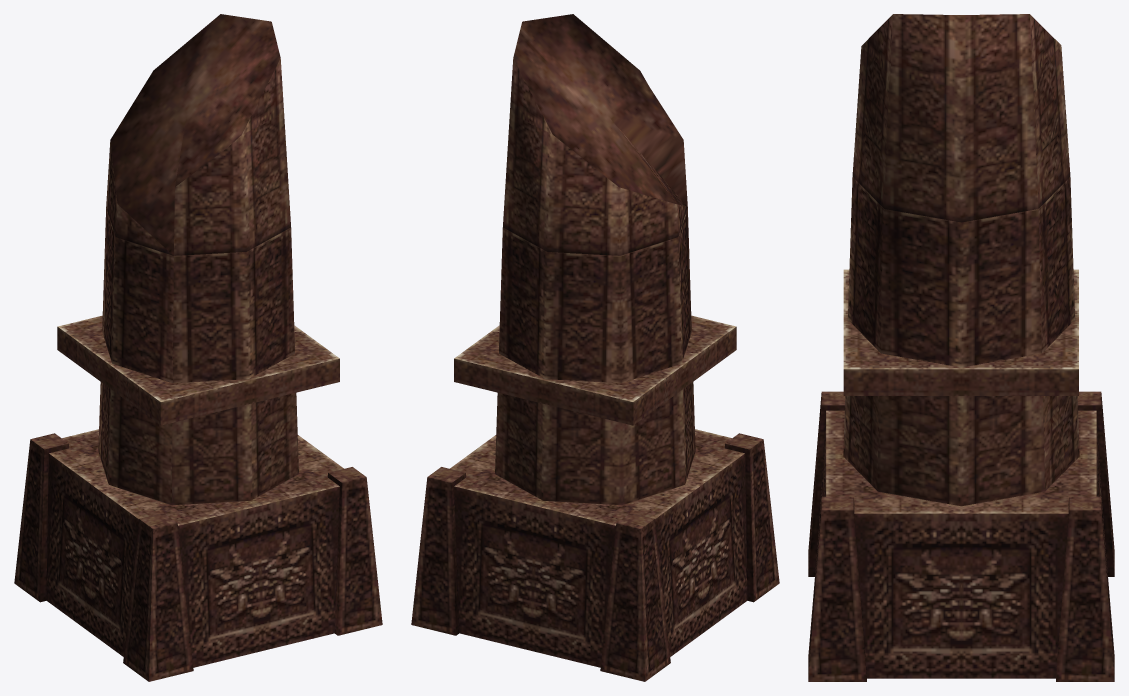
File: general_obj_bigtoewr01.glb
The picture shows the model from 3 angles, left to right: view 1: azimuth 30°, elevation 25°; view 2: azimuth 150°, elevation 25°; view 3: azimuth 270°, elevation 25°; orthographic projection. The views are drawn at different scales.
Parts seen in each view (by area): view 1: Sphere01; view 2: Sphere01; view 3: Sphere01.
Boxes of the visible parts, x1,y1,x2,y2 form: Sphere01: [14, 14, 382, 681]; Sphere01: [411, 14, 779, 681]; Sphere01: [808, 14, 1114, 681].
Size of the model in its own units: 5.22 by 12.05 by 5.21.
Materials: 1 (1 with a texture image).
